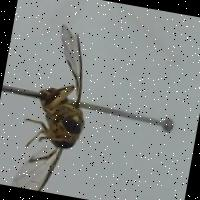Oriental-fruit-fly: (0, 3, 123, 200)
